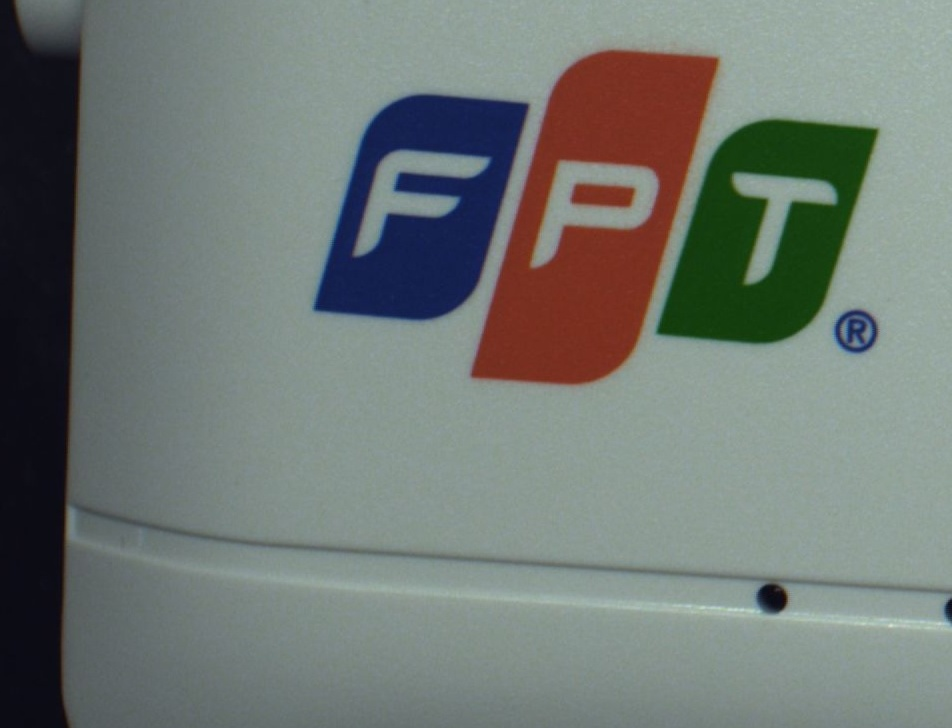BR_FPT: (293, 42, 891, 389)
